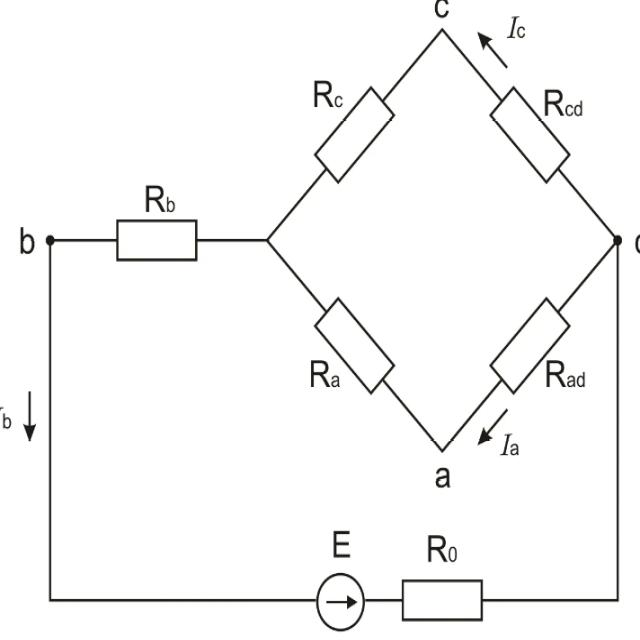net: (43, 590, 325, 606), (478, 592, 625, 610), (359, 595, 408, 607)
net_node: (609, 230, 624, 606), (45, 232, 56, 604), (42, 227, 124, 253)
res: (313, 80, 399, 190), (311, 292, 397, 396), (489, 82, 574, 186), (490, 291, 571, 396), (113, 214, 204, 266), (398, 576, 488, 624)
source: (313, 570, 367, 633)
